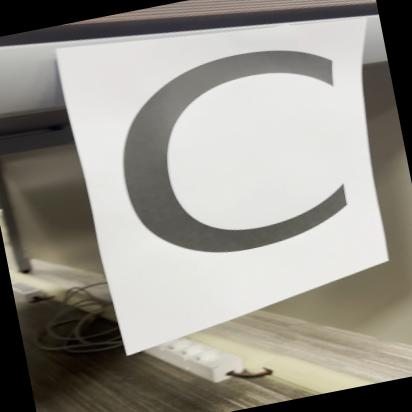seat: (61, 0, 395, 336)
